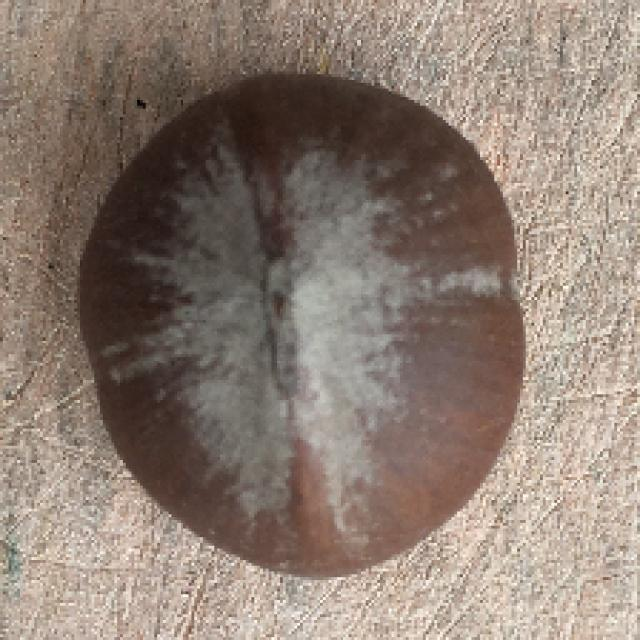qualityHazelnut: (62, 62, 557, 581)
